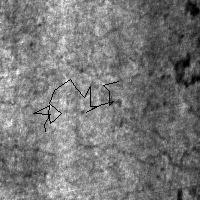crazing: (74, 93, 200, 171), (33, 79, 118, 131)
